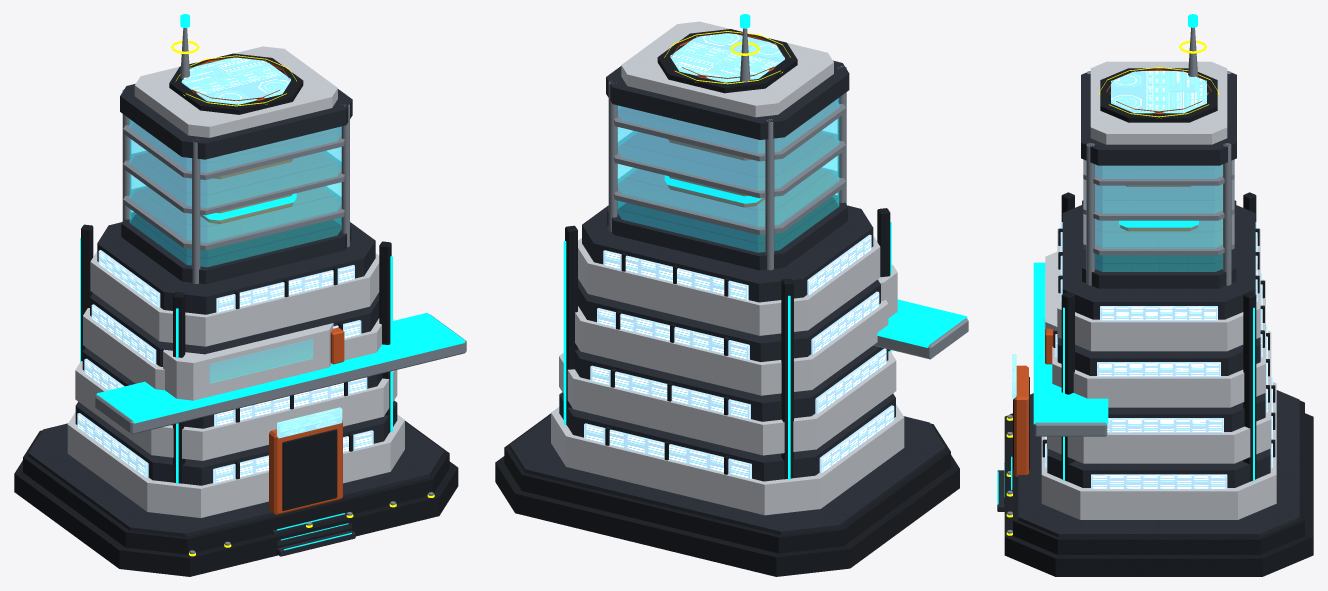
The model's file is bldg_02_r1_01.glb.
3 renders of one model, left to right at view 1: azimuth 30°, elevation 25°; view 2: azimuth 150°, elevation 25°; view 3: azimuth 270°, elevation 25°, orthographic. The views are drawn at different scales.
Parts seen in each view (by area): view 1: Bldg02_C01_aero_white, Bldg02_C01_carbon_slate, Bldg02_C01_gunmetal, Bldg02_C01_steel_machined, Bldg02_C01_glass_cyan, Bldg02_C01_window_lit, Bldg02_C01_led_cyan, Bldg02_C01_marquee, Bldg02_C01_accent_orange, Bldg02_C01_led_amber; view 2: Bldg02_C01_aero_white, Bldg02_C01_carbon_slate, Bldg02_C01_gunmetal, Bldg02_C01_steel_machined, Bldg02_C01_glass_cyan, Bldg02_C01_window_lit, Bldg02_C01_led_cyan, Bldg02_C01_marquee, Bldg02_C01_accent_orange; view 3: Bldg02_C01_carbon_slate, Bldg02_C01_aero_white, Bldg02_C01_gunmetal, Bldg02_C01_steel_machined, Bldg02_C01_glass_cyan, Bldg02_C01_window_lit, Bldg02_C01_led_cyan, Bldg02_C01_marquee, Bldg02_C01_accent_orange, Bldg02_C01_led_amber.
Boxes of the visible parts, x1=… form: Bldg02_C01_aero_white: x1=67, y1=46, x2=404, y2=517; Bldg02_C01_carbon_slate: x1=28, y1=84, x2=444, y2=556; Bldg02_C01_gunmetal: x1=14, y1=53, x2=458, y2=576; Bldg02_C01_steel_machined: x1=95, y1=28, x2=466, y2=554; Bldg02_C01_glass_cyan: x1=129, y1=119, x2=341, y2=383; Bldg02_C01_window_lit: x1=77, y1=250, x2=373, y2=483; Bldg02_C01_led_cyan: x1=80, y1=14, x2=464, y2=550; Bldg02_C01_marquee: x1=181, y1=57, x2=342, y2=438; Bldg02_C01_accent_orange: x1=183, y1=57, x2=344, y2=514; Bldg02_C01_led_amber: x1=171, y1=41, x2=434, y2=556; Bldg02_C01_aero_white: x1=551, y1=21, x2=904, y2=515; Bldg02_C01_carbon_slate: x1=509, y1=60, x2=945, y2=535; Bldg02_C01_gunmetal: x1=495, y1=29, x2=959, y2=576; Bldg02_C01_steel_machined: x1=608, y1=28, x2=968, y2=359; Bldg02_C01_glass_cyan: x1=617, y1=98, x2=839, y2=252; Bldg02_C01_window_lit: x1=584, y1=234, x2=894, y2=479; Bldg02_C01_led_cyan: x1=563, y1=14, x2=967, y2=479; Bldg02_C01_marquee: x1=670, y1=32, x2=784, y2=82; Bldg02_C01_accent_orange: x1=667, y1=32, x2=783, y2=207; Bldg02_C01_carbon_slate: x1=997, y1=72, x2=1299, y2=537; Bldg02_C01_aero_white: x1=1041, y1=61, x2=1276, y2=519; Bldg02_C01_gunmetal: x1=1004, y1=68, x2=1313, y2=576; Bldg02_C01_steel_machined: x1=1007, y1=27, x2=1234, y2=533; Bldg02_C01_glass_cyan: x1=1044, y1=164, x2=1222, y2=337; Bldg02_C01_window_lit: x1=1045, y1=222, x2=1272, y2=489; Bldg02_C01_led_cyan: x1=997, y1=14, x2=1254, y2=504; Bldg02_C01_marquee: x1=1012, y1=71, x2=1206, y2=399; Bldg02_C01_accent_orange: x1=1014, y1=68, x2=1211, y2=476; Bldg02_C01_led_amber: x1=1006, y1=40, x2=1218, y2=535.
Bounding box in the file's own units: 12.5 × 16.52 × 10.23.
Materials: 10 (10 with a texture image).
